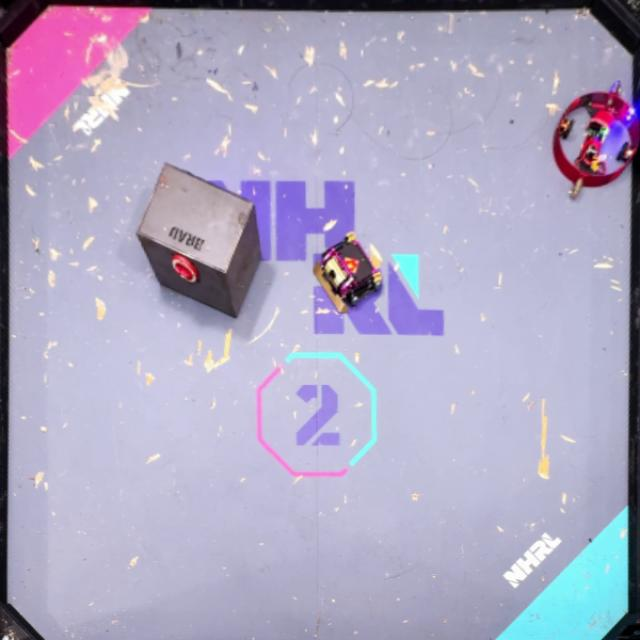housebot: (136, 163, 263, 319)
robot: (553, 80, 640, 200), (312, 231, 383, 313)
